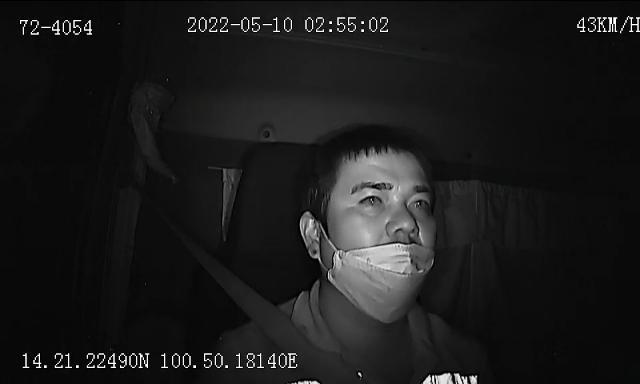SafeDriving: (352, 186, 390, 212), (404, 190, 434, 214)
Seatbelt: (182, 236, 318, 384)
